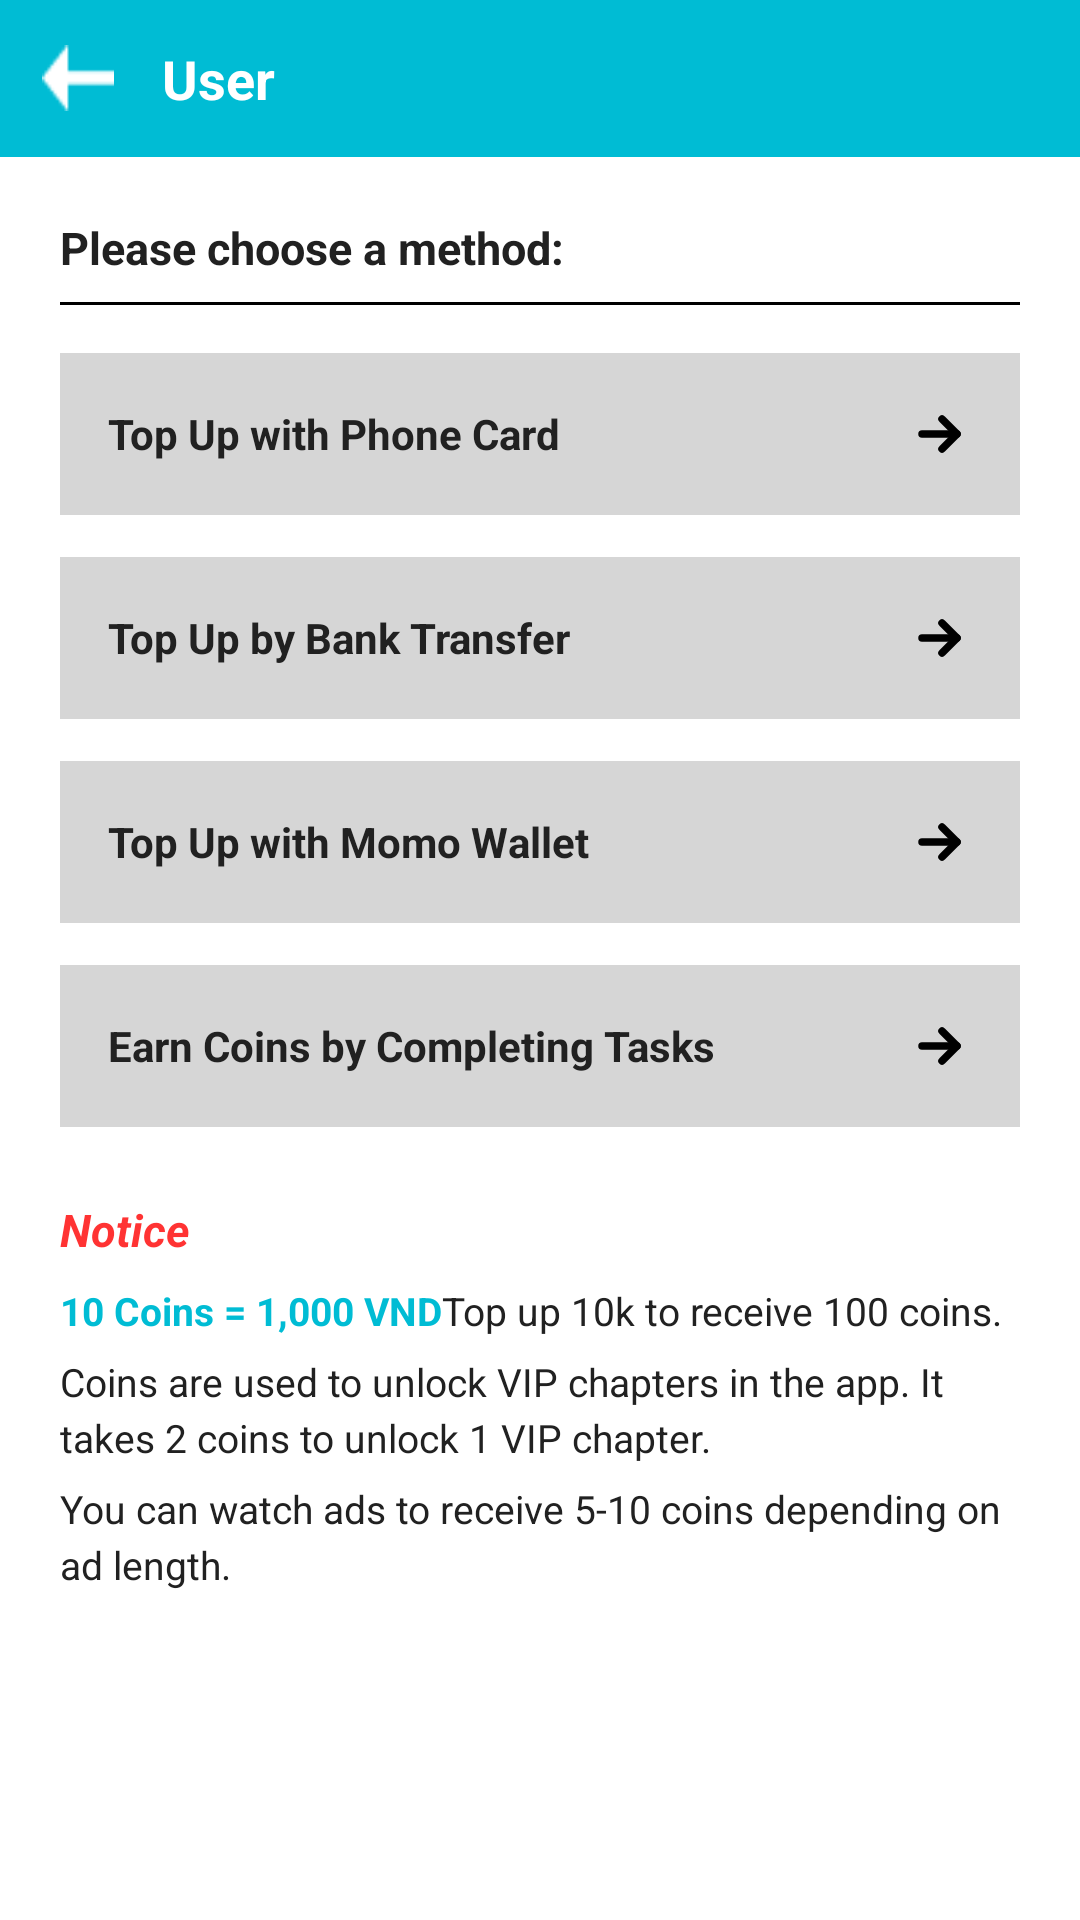

Icon click points for this 1080*1920 phone screenshot, format (x=x, y=y):
activity back: (x=78, y=78)
forward: (x=939, y=434), (x=939, y=638), (x=939, y=842), (x=939, y=1046)
